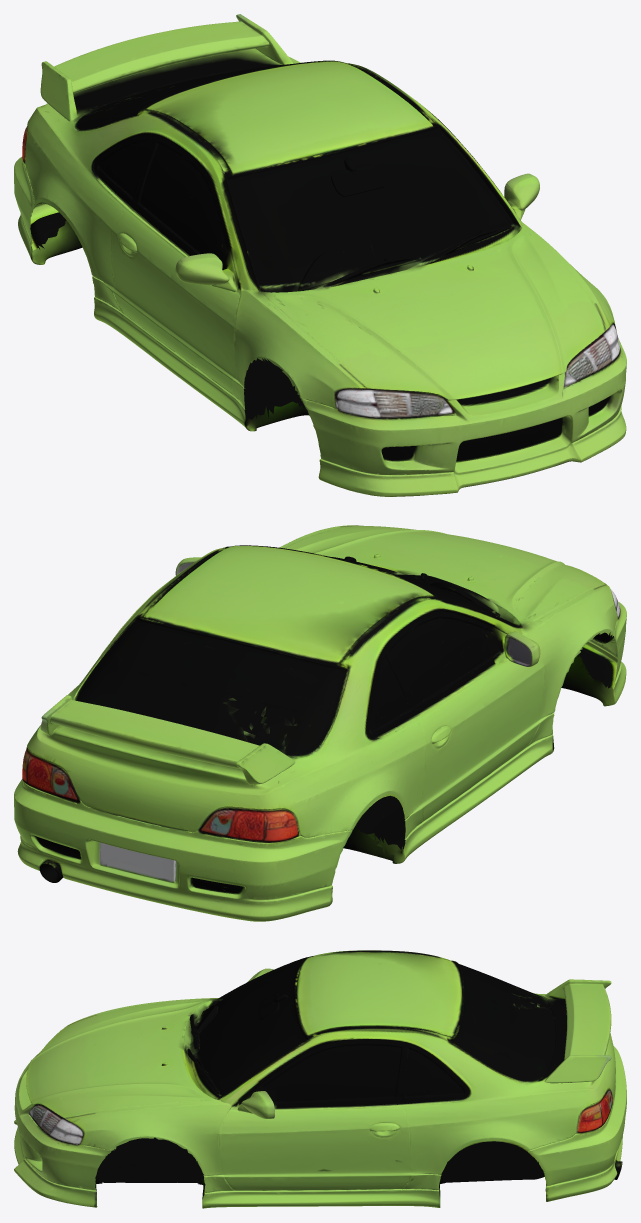
Rendered from tuner.glb.
The picture shows the model from 3 angles, top to bottom: view 1: azimuth 30°, elevation 25°; view 2: azimuth 150°, elevation 25°; view 3: azimuth 270°, elevation 25°; orthographic projection. The views are drawn at different scales.
Visible parts, largest first — view 1: material; view 2: material; view 3: material.
Boxes of the visible parts, x1=… form: material: x1=14, y1=14, x2=626, y2=496; material: x1=14, y1=525, x2=626, y2=921; material: x1=14, y1=950, x2=626, y2=1208.
Bounding box in the file's own units: 0.5354 × 0.308 × 1.
Materials: 1 (1 with a texture image).
